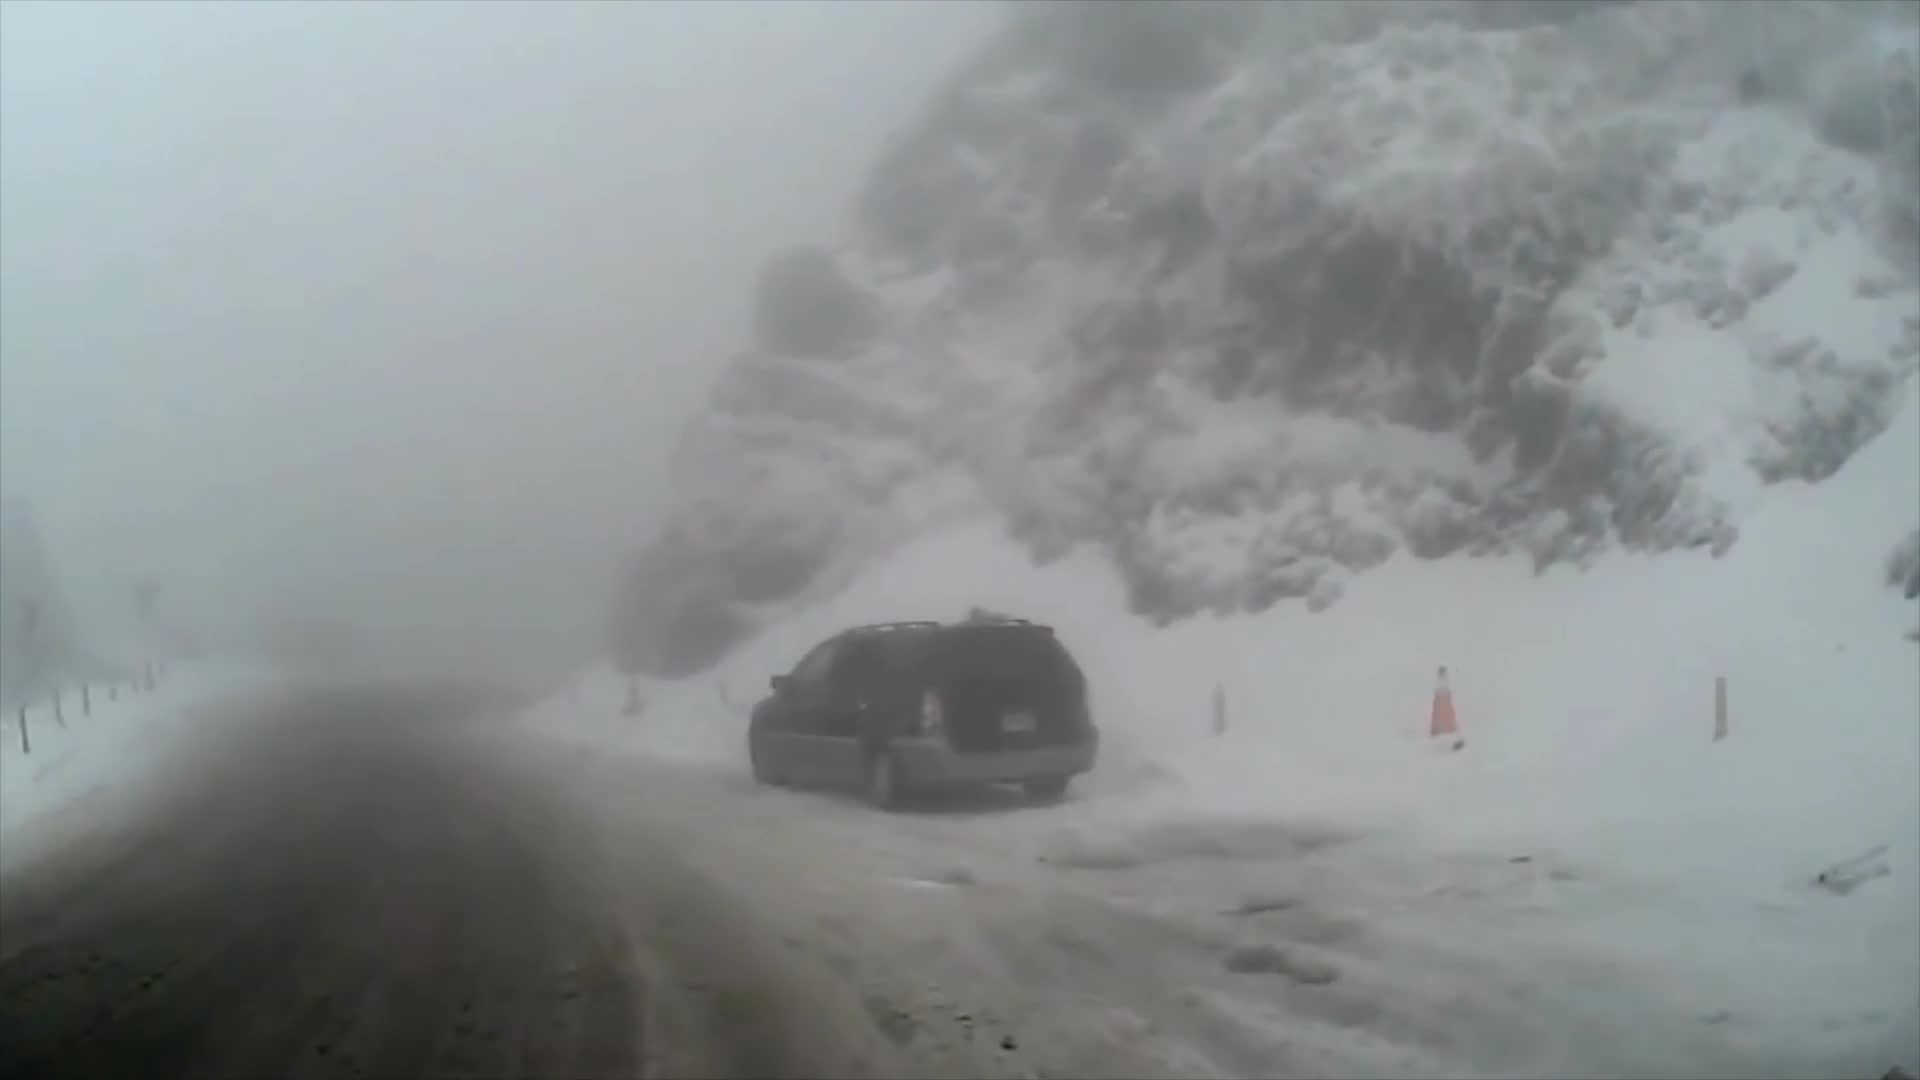vehicle: (744, 624, 1098, 816)
